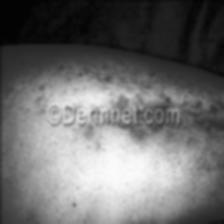Unclassified: (202, 95, 224, 131)
